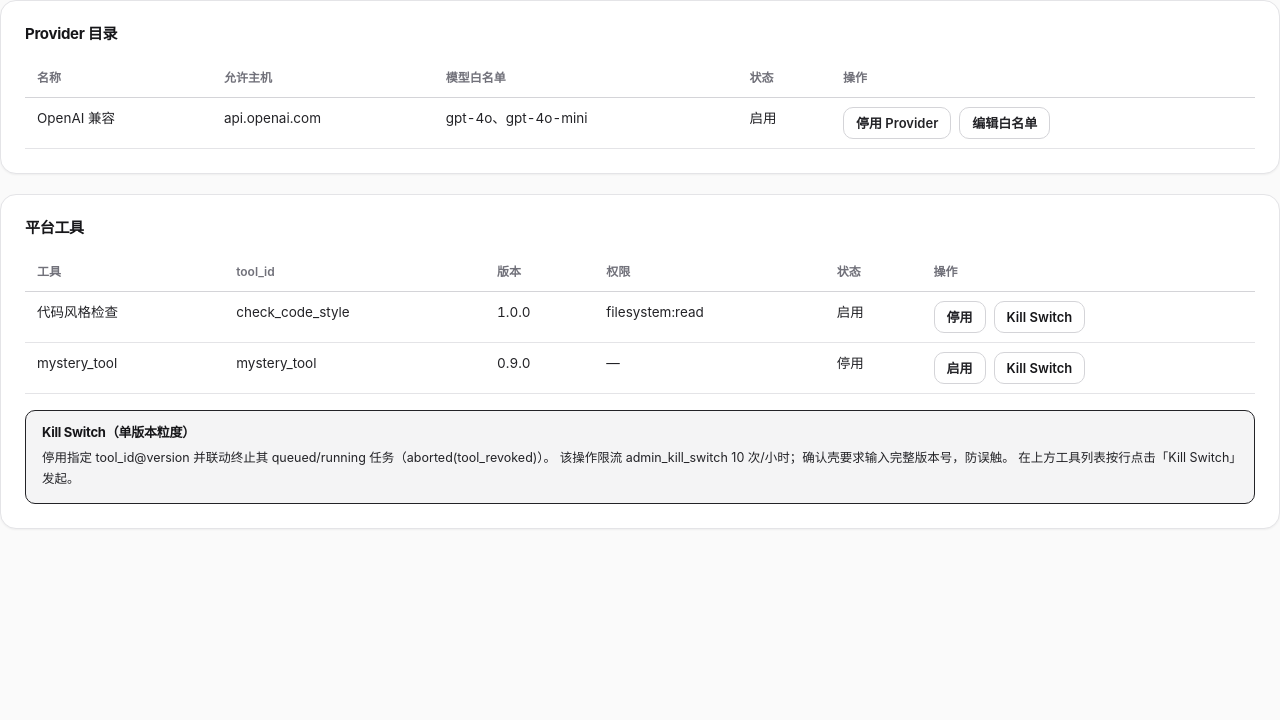
Test: ③④kill-switch 危险壳 › 版本确认不匹配时确认按钮禁用（单版本粒度防误触）
Click the button "Kill Switch" in the row of "代码风格检查" at (1039, 317), box x1=994 y1=301 x2=1085 y2=333
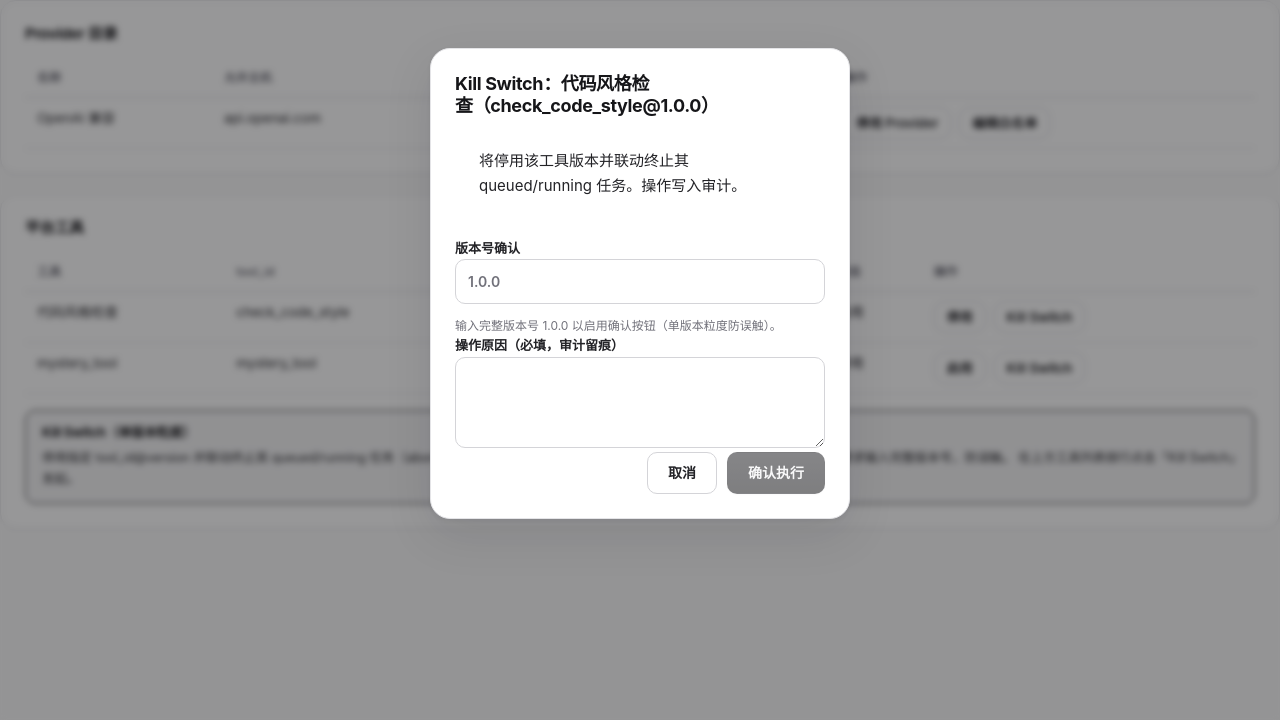
Now the button "确认执行" is disabled, box x1=727 y1=452 x2=825 y2=494
Type "0.9.0" into the field labelled "版本号确认" at (640, 282), box x1=455 y1=259 x2=825 y2=304
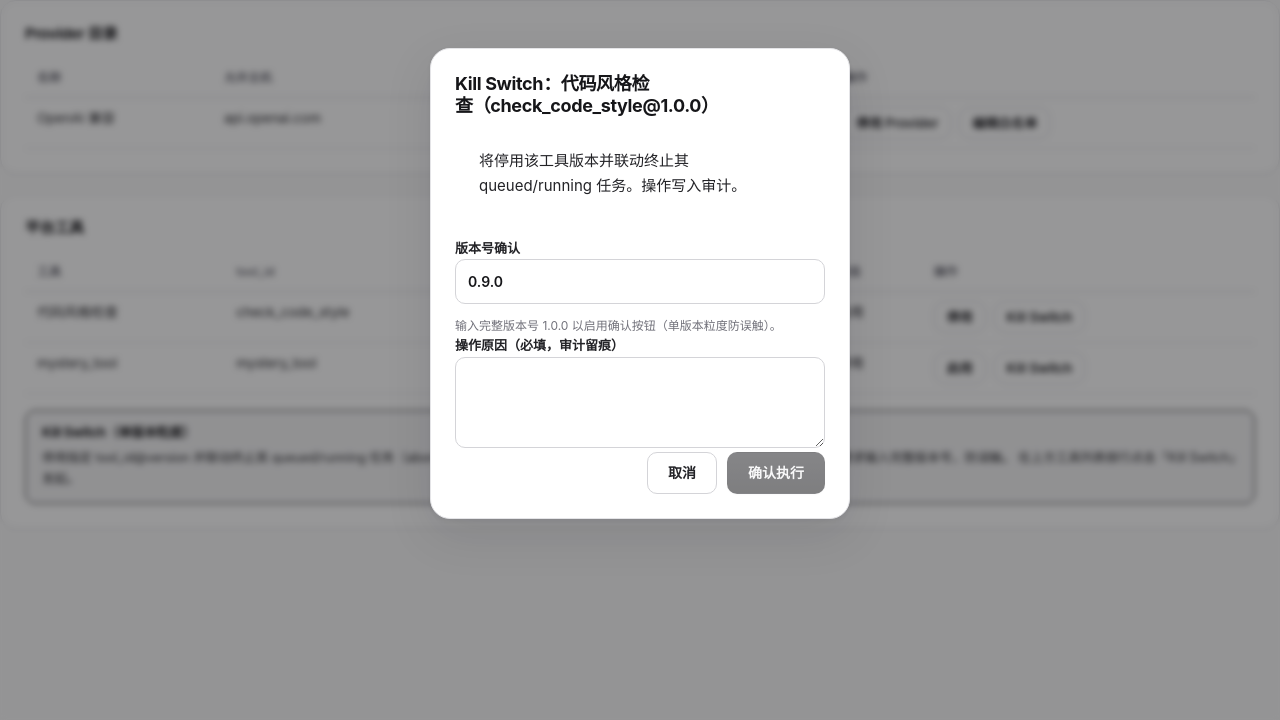
Type "紧急止血" into the text box labelled "操作原因（必填，审计留痕）" at (640, 402), box x1=455 y1=357 x2=825 y2=448
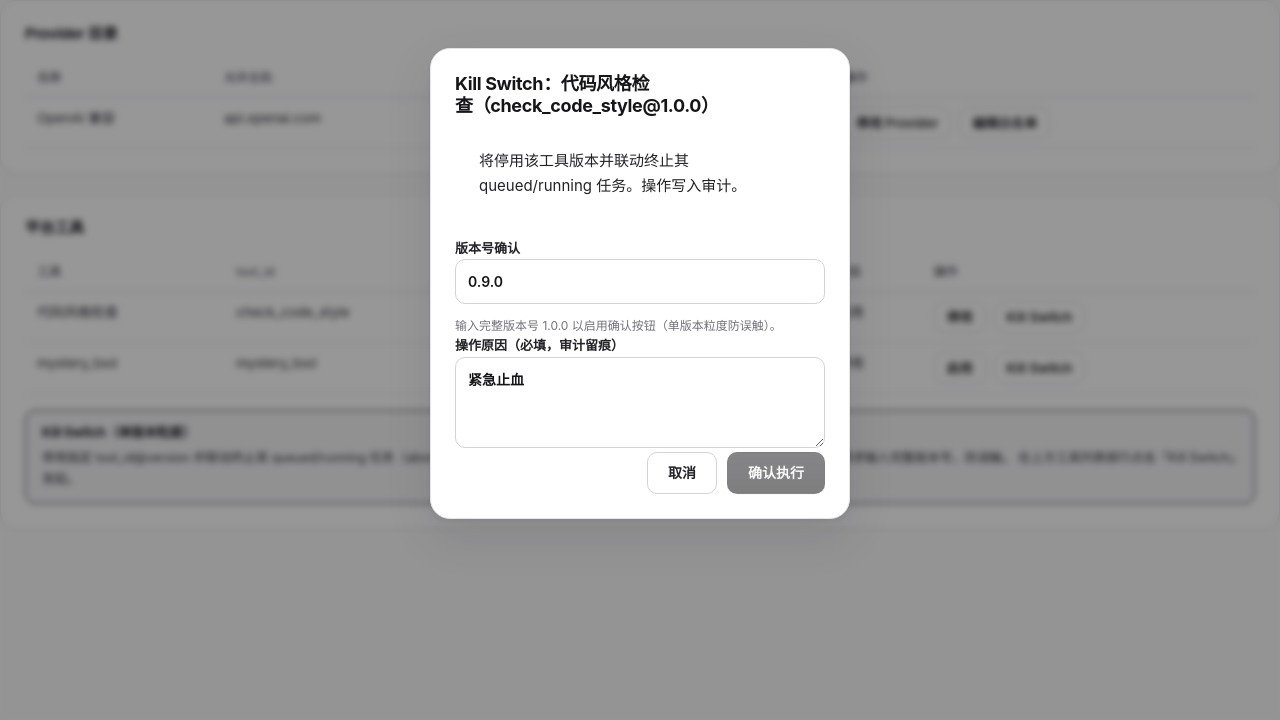
Now the button "确认执行" is disabled, box x1=727 y1=452 x2=825 y2=494
Replace the text in the field labelled "版本号确认" with "1.0.0" at (640, 282), box x1=455 y1=259 x2=825 y2=304
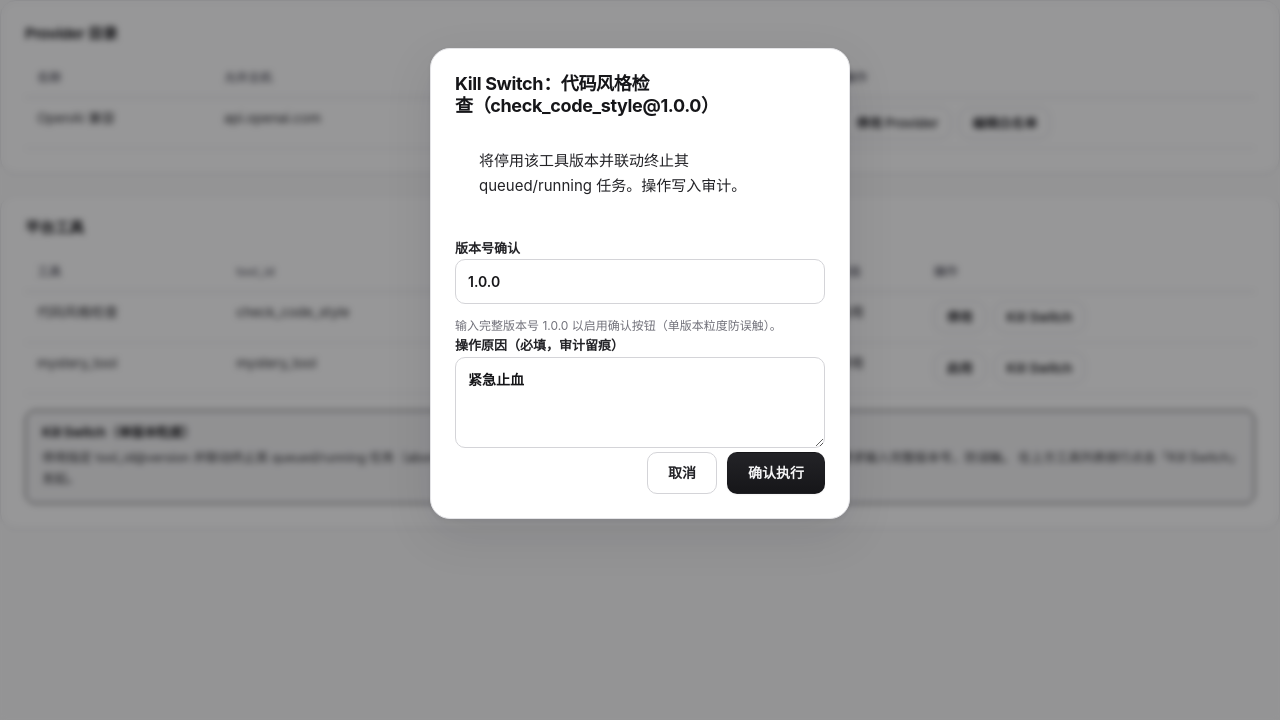
Now the button "确认执行" is enabled, box x1=727 y1=452 x2=825 y2=494
